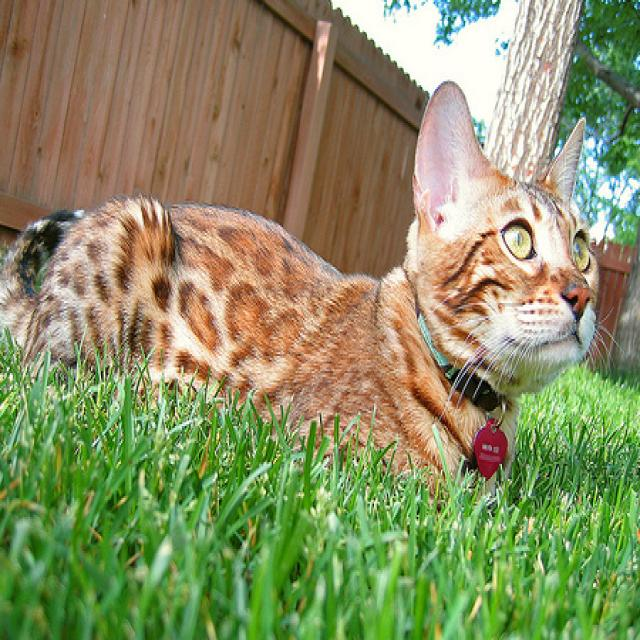Bengal: (0, 70, 606, 530)
